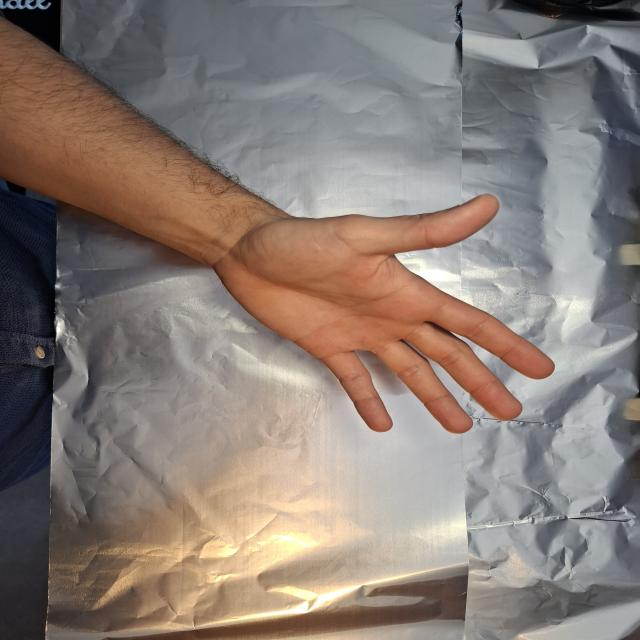glove_off: (198, 184, 559, 436)
